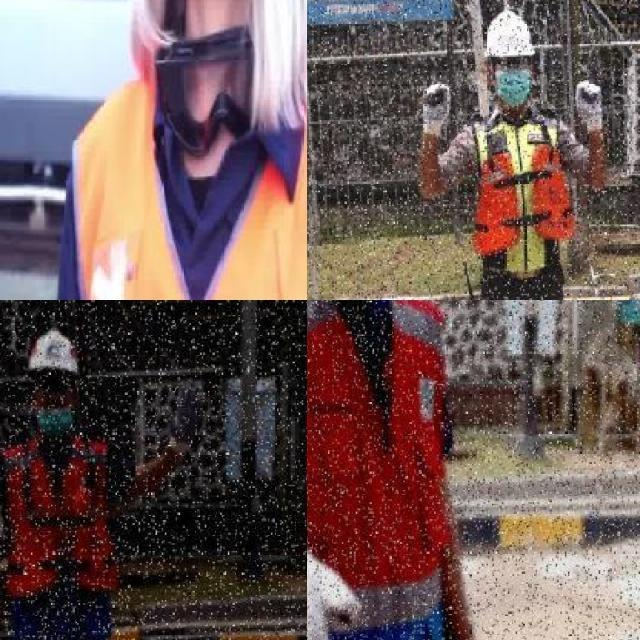apron: (162, 378, 204, 458), (420, 80, 454, 142), (574, 79, 608, 135)
